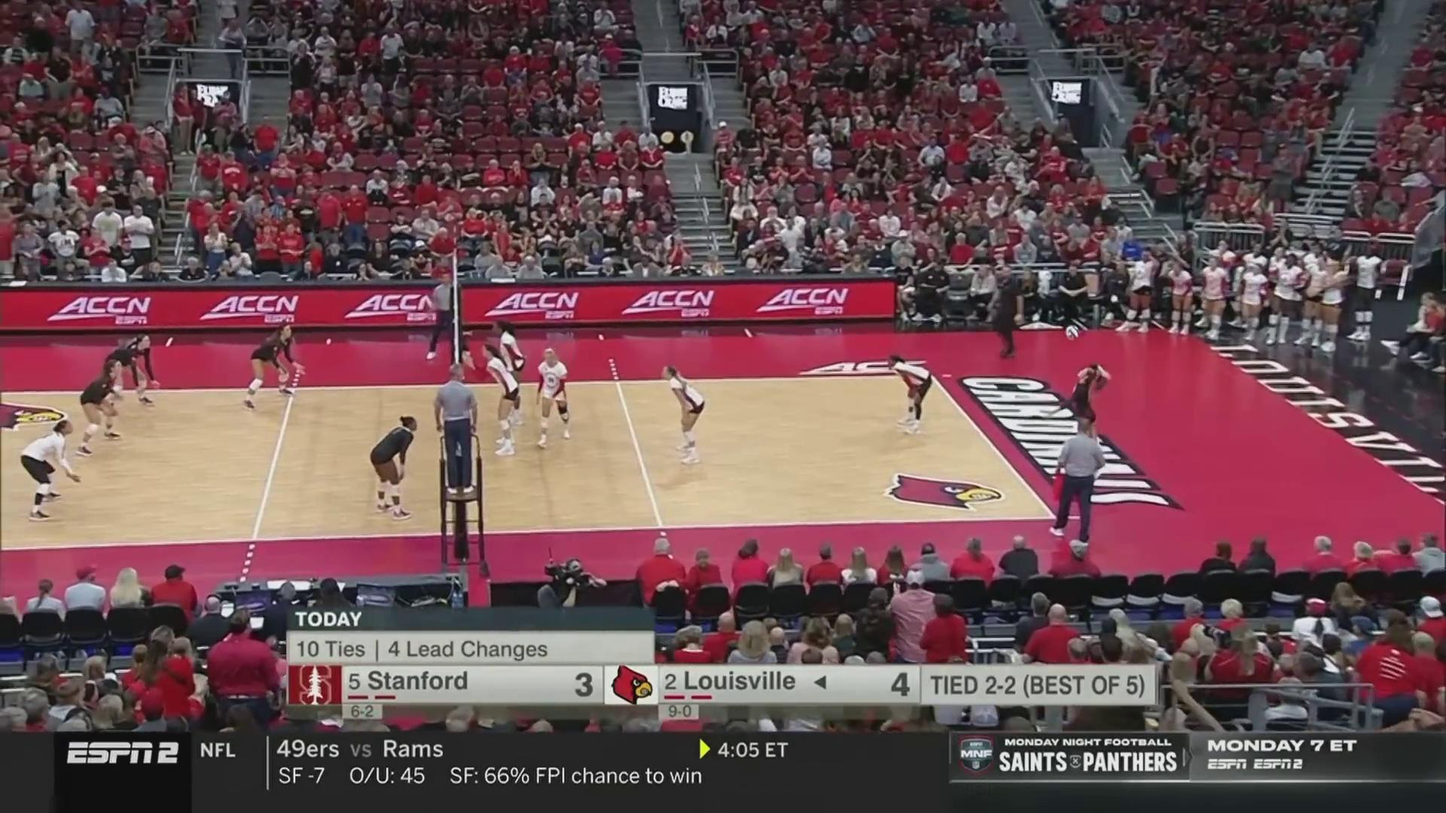player: (369, 413, 420, 516), (240, 324, 304, 406), (24, 421, 79, 515), (1068, 362, 1109, 482), (79, 354, 126, 455), (664, 363, 708, 462), (103, 335, 164, 406), (534, 348, 574, 449), (487, 341, 521, 459), (488, 319, 524, 428), (886, 357, 934, 436)
refree: (1049, 418, 1103, 547), (436, 369, 479, 490), (427, 274, 465, 360)
